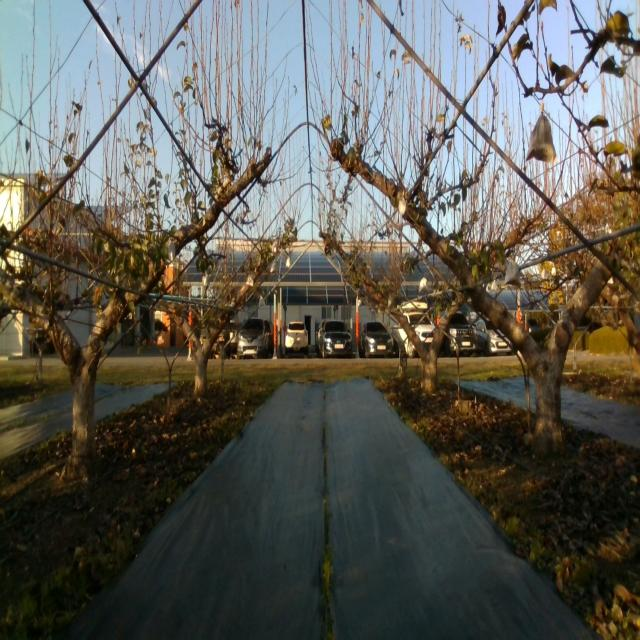pearbags: (525, 114, 556, 163), (504, 259, 521, 288)
